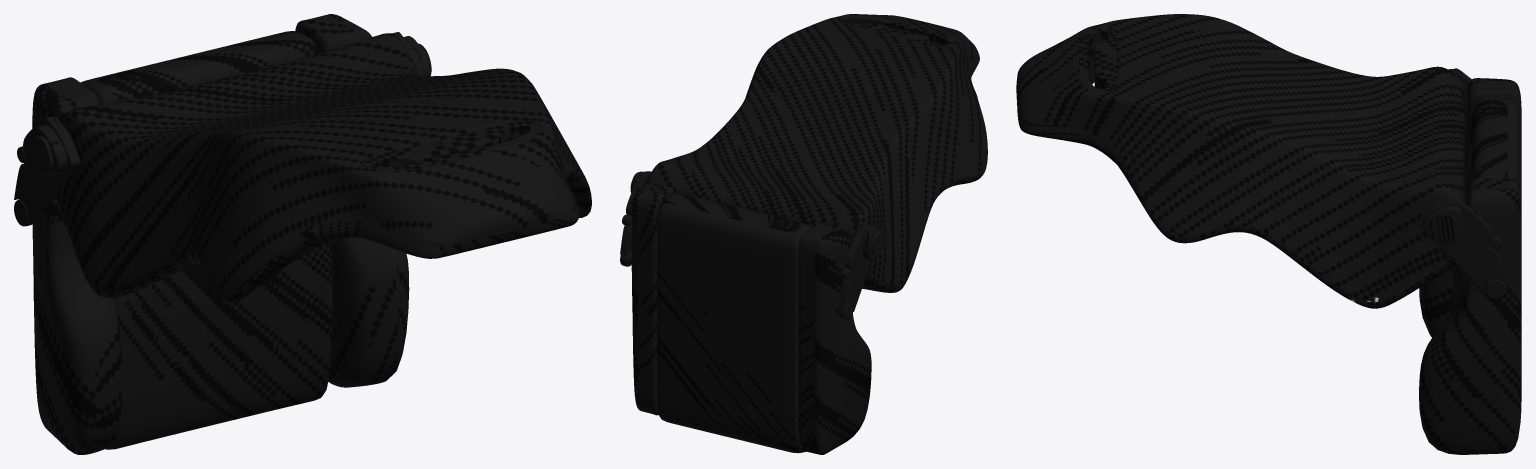
The model's file is recaro-speed-racing-seat.glb.
3 views of the same model, side by side, from view 1: azimuth 30°, elevation 25°; view 2: azimuth 150°, elevation 25°; view 3: azimuth 270°, elevation 25° (orthographic). The views are drawn at different scales.
Visible parts, largest first — view 1: mesh_0; view 2: mesh_0; view 3: mesh_0.
Boxes of the visible parts, x1,y1,x2,y2 form: mesh_0: [14, 14, 591, 454]; mesh_0: [620, 14, 987, 454]; mesh_0: [1016, 14, 1521, 454].
Bounding box in the file's own units: 0.4861 × 0.5552 × 0.72.
Materials: 1 (1 with a texture image).
